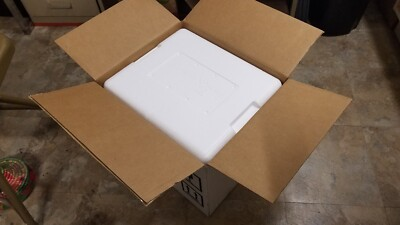泡沫箱: (104, 31, 280, 157)
